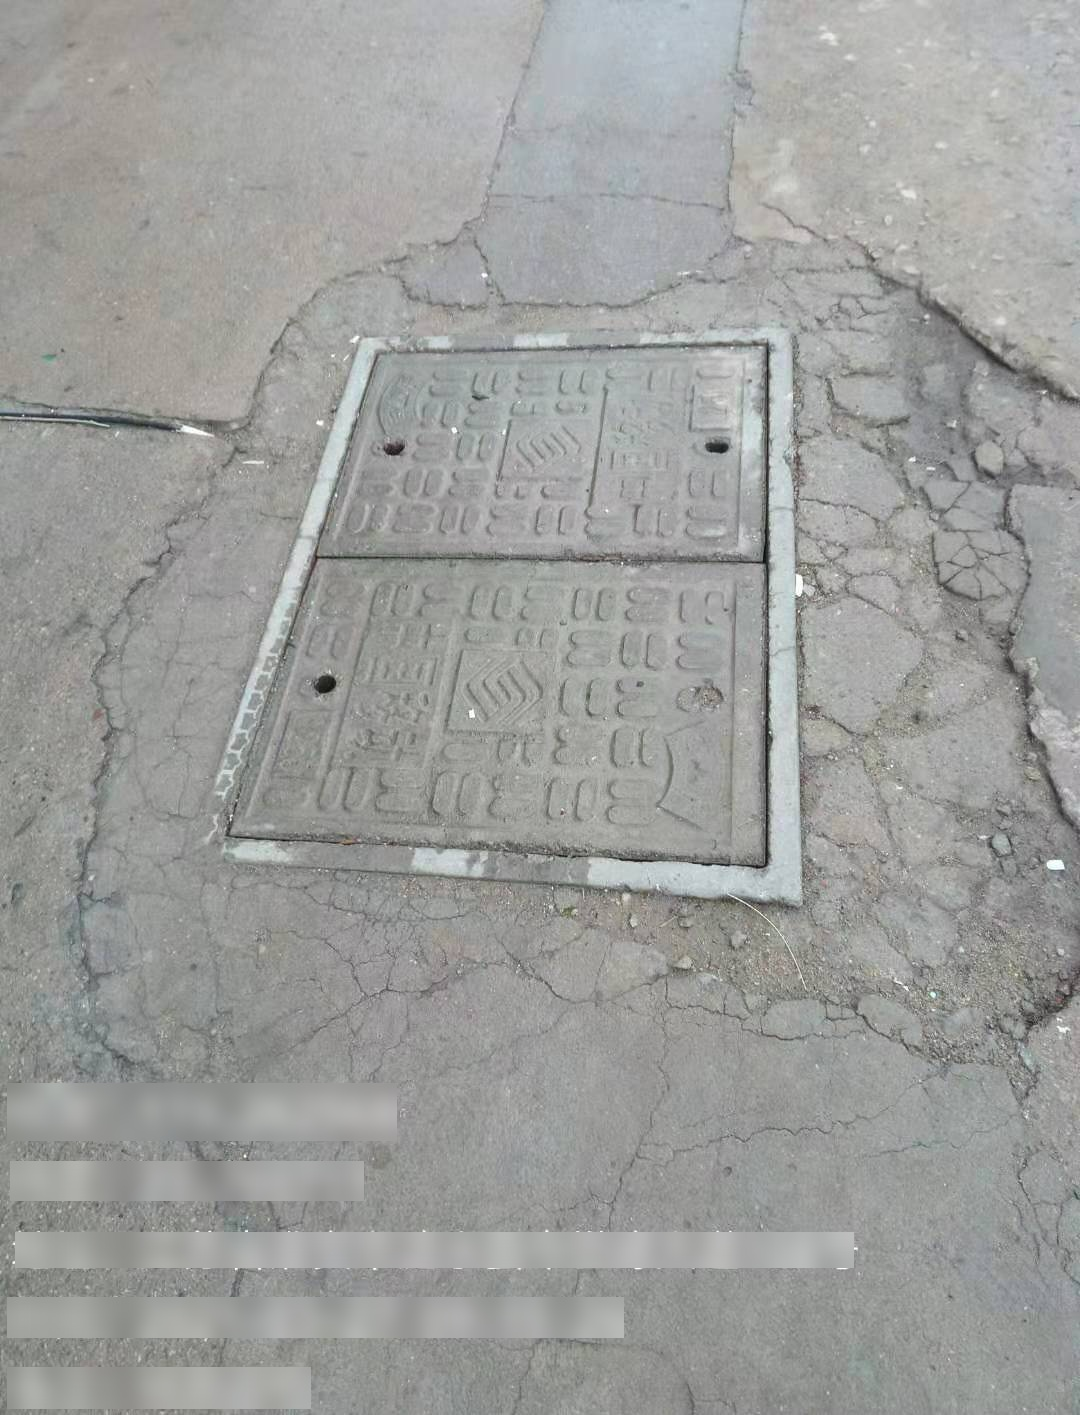well: (206, 322, 808, 904)
